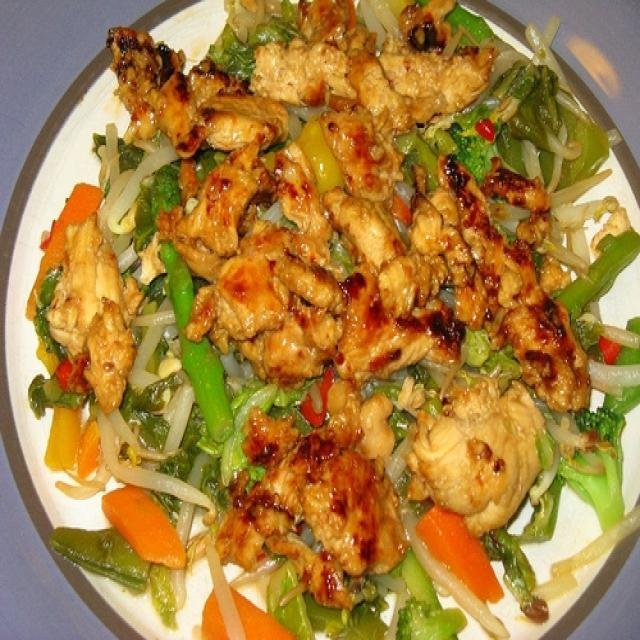蔬菜料理: (41, 30, 603, 612)
